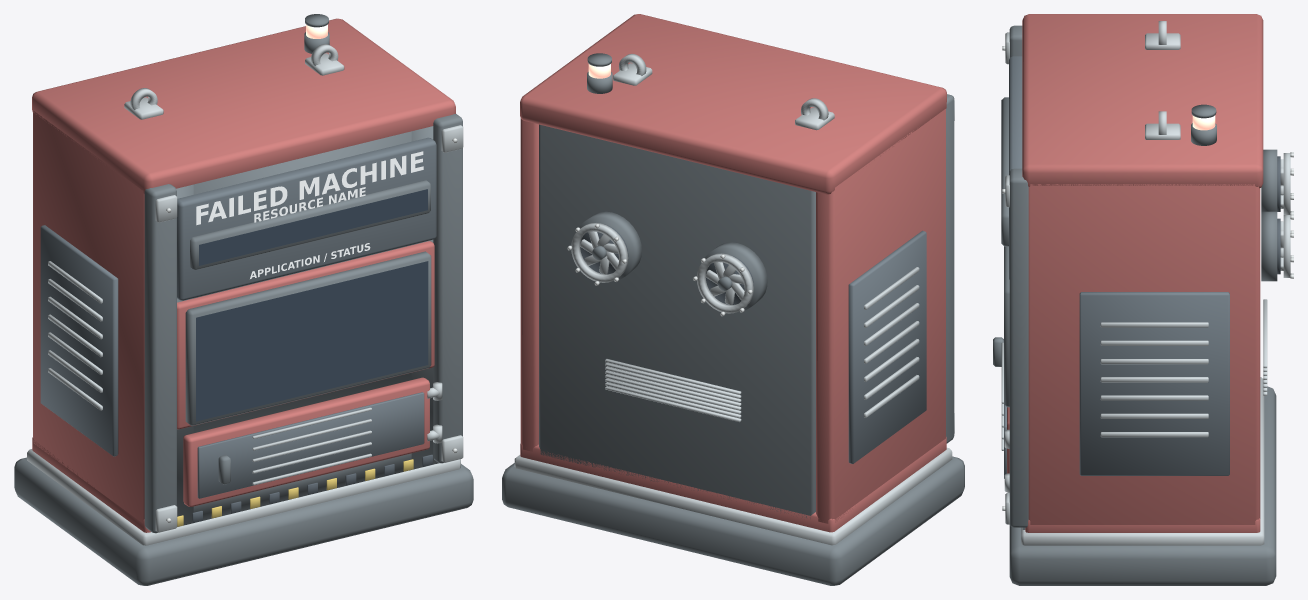
Rendered from failed_machine_enhanced.glb.
The picture shows the model from 3 angles, left to right: view 1: azimuth 30°, elevation 25°; view 2: azimuth 150°, elevation 25°; view 3: azimuth 270°, elevation 25°; orthographic projection. The views are drawn at different scales.
Visible parts, largest first — view 1: Roof_darkred, LiveViewSurface_glass, SideWall_darkred, Skid_frame, CornerPost_frame, FrontHeader_graphite, SideServicePanel_graphite, DoorMoving_Inset_graphite, DoorMoving_Panel_darkred, SkidDeck_steel, LiveViewSurfaceFrame_frame, ResourceNameSurface_glass (+15 smaller); view 2: BackWall_frame, Roof_darkred, SideWall_darkred, Skid_frame, SideServicePanel_graphite, SkidDeck_steel, KickPlate_darkred, RearFan_steel, RearVent_steel, CornerPost_frame, RearFan_frame, SideLouver_steel (+3 smaller); view 3: SideWall_darkred, Roof_darkred, SideServicePanel_graphite, Skid_frame, CornerPost_frame, SideLouver_steel, SkidDeck_steel, RearFan_frame, KickPlate_darkred, FrontHeader_graphite, RearFan_steel, ResourceNameSurfaceFrame_frame (+7 smaller).
Part boxes in pixels (x1=…): Roof_darkred: x1=32, y1=18, x2=455, y2=194; LiveViewSurface_glass: x1=196, y1=261, x2=428, y2=421; SideWall_darkred: x1=33, y1=111, x2=144, y2=523; Skid_frame: x1=14, y1=457, x2=473, y2=585; CornerPost_frame: x1=144, y1=114, x2=462, y2=533; FrontHeader_graphite: x1=177, y1=137, x2=436, y2=300; SideServicePanel_graphite: x1=40, y1=225, x2=118, y2=456; DoorMoving_Inset_graphite: x1=197, y1=392, x2=424, y2=498; DoorMoving_Panel_darkred: x1=183, y1=377, x2=429, y2=506; SkidDeck_steel: x1=27, y1=449, x2=460, y2=545; LiveViewSurfaceFrame_frame: x1=185, y1=251, x2=431, y2=425; ResourceNameSurface_glass: x1=199, y1=189, x2=427, y2=265; BackWall_frame: x1=539, y1=124, x2=815, y2=518; Roof_darkred: x1=520, y1=14, x2=946, y2=194; SideWall_darkred: x1=520, y1=109, x2=945, y2=523; Skid_frame: x1=502, y1=456, x2=964, y2=585; SideServicePanel_graphite: x1=848, y1=230, x2=926, y2=463; SkidDeck_steel: x1=514, y1=447, x2=952, y2=545; KickPlate_darkred: x1=520, y1=437, x2=946, y2=532; RearFan_steel: x1=571, y1=223, x2=753, y2=313; RearVent_steel: x1=605, y1=359, x2=741, y2=422; CornerPost_frame: x1=946, y1=94, x2=954, y2=443; RearFan_frame: x1=579, y1=211, x2=767, y2=311; SideLouver_steel: x1=864, y1=267, x2=919, y2=417; SideWall_darkred: x1=1028, y1=184, x2=1260, y2=524; Roof_darkred: x1=1022, y1=14, x2=1263, y2=188; SideServicePanel_graphite: x1=1079, y1=292, x2=1229, y2=475; Skid_frame: x1=1009, y1=386, x2=1276, y2=585; CornerPost_frame: x1=1009, y1=25, x2=1028, y2=527; SideLouver_steel: x1=1100, y1=322, x2=1208, y2=437; SkidDeck_steel: x1=1021, y1=377, x2=1264, y2=545; RearFan_frame: x1=1261, y1=149, x2=1277, y2=281; KickPlate_darkred: x1=1025, y1=518, x2=1260, y2=532; FrontHeader_graphite: x1=1009, y1=56, x2=1022, y2=279; RearFan_steel: x1=1280, y1=153, x2=1290, y2=277; ResourceNameSurfaceFrame_frame: x1=1001, y1=97, x2=1008, y2=246.
Bounding box in the file's own units: 2 × 2.48 × 1.51.
